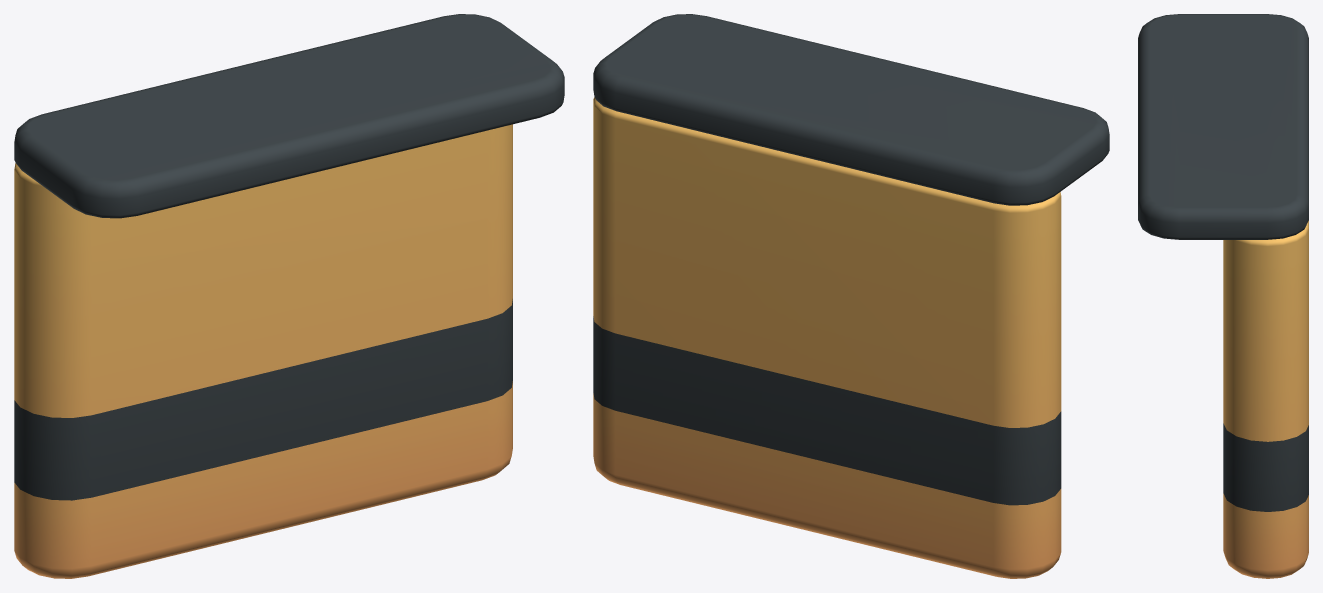
The model's file is Kitchen_Table_17.glb.
The picture shows the model from 3 angles, left to right: view 1: azimuth 30°, elevation 25°; view 2: azimuth 150°, elevation 25°; view 3: azimuth 270°, elevation 25°; orthographic projection. The views are drawn at different scales.
Visible parts, largest first — view 1: Kitchen_Table_17; view 2: Kitchen_Table_17; view 3: Kitchen_Table_17.
Boxes of the visible parts, x1,y1,x2,y2 form: Kitchen_Table_17: (14,14,564,578); Kitchen_Table_17: (593,14,1109,578); Kitchen_Table_17: (1138,14,1308,578).
Size of the model in its own units: 1.4 by 1.2 by 0.5.
1 material, 1 textured.
